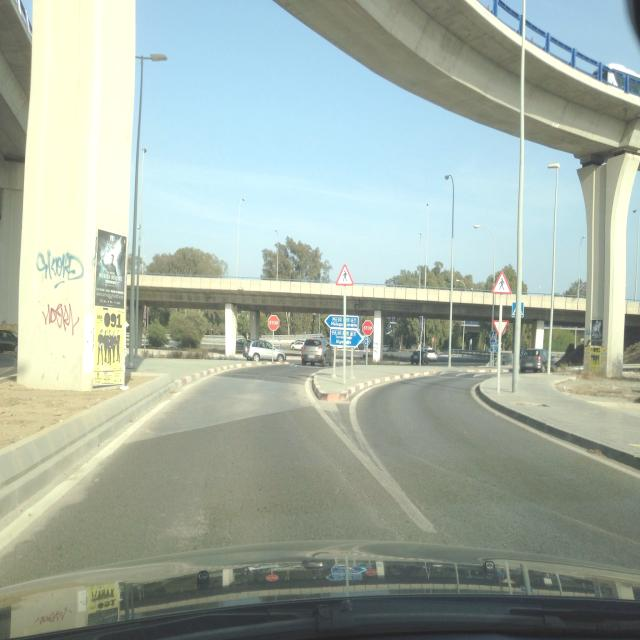car: (244, 338, 286, 362), (301, 337, 335, 366), (519, 348, 552, 372), (410, 347, 438, 364), (0, 328, 18, 354), (290, 340, 306, 352)
